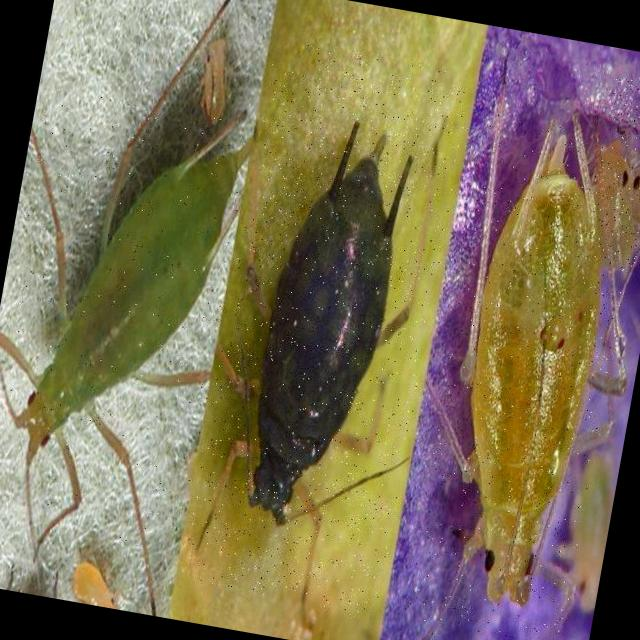aphid: (179, 39, 470, 615), (397, 113, 640, 640), (0, 82, 254, 552), (580, 73, 640, 277)
